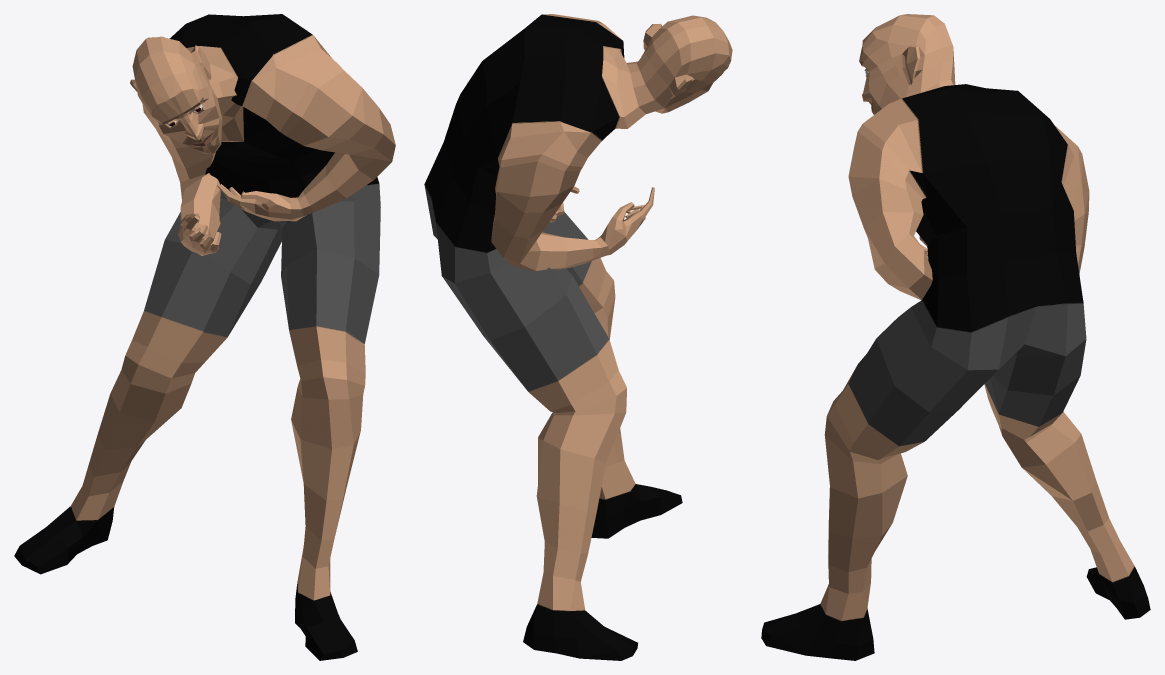
Rendered from PlayerDead(21).obj.
3 views of the same model, side by side, from view 1: azimuth 30°, elevation 25°; view 2: azimuth 150°, elevation 25°; view 3: azimuth 270°, elevation 25° (orthographic). The views are drawn at different scales.
Parts seen in each view (by area): view 1: Plane002; view 2: Plane002; view 3: Plane002.
Part boxes in pixels (x1,y1,x2,y2): Plane002: (14, 14, 395, 660); Plane002: (424, 14, 732, 660); Plane002: (761, 14, 1150, 660).
Bounding box in the file's own units: 692 × 1405 × 852.
